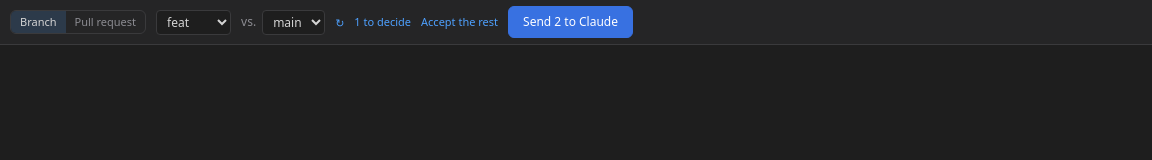
Test: ChangesView › sends every comment, by commit or on the whole branch, with one button, then clears them
Click the button "Send 2 to Claude" at (570,22), box [508,6,633,38]
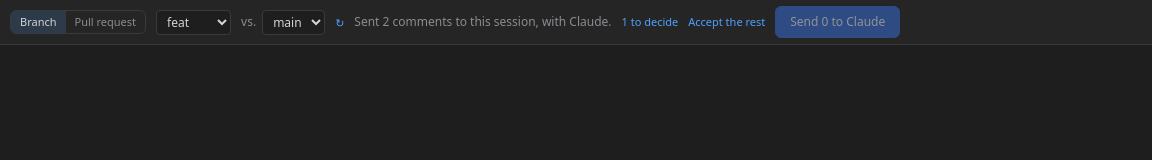
expect the text "Sent 2 comments to this session, with Claude." is shown: met, box [354,13,612,31]
